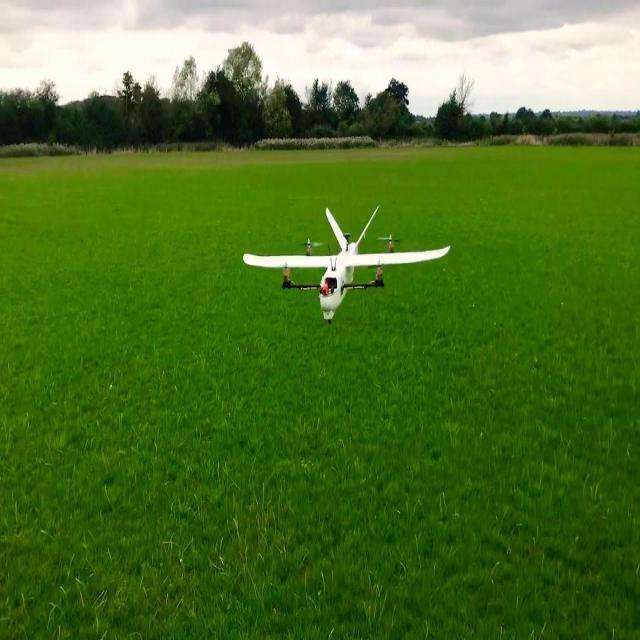UAV: (264, 202, 434, 320)
